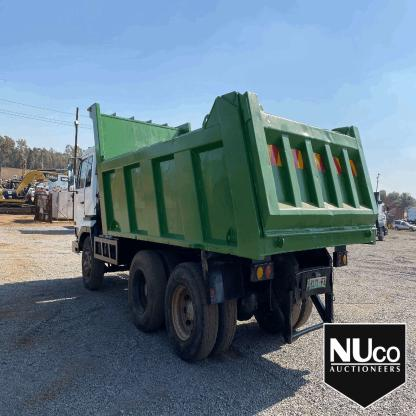dump_truck: (68, 88, 389, 373)
